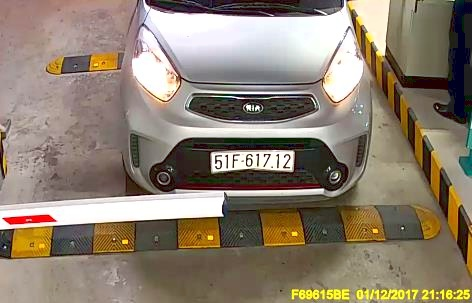plate: (209, 148, 293, 178)
